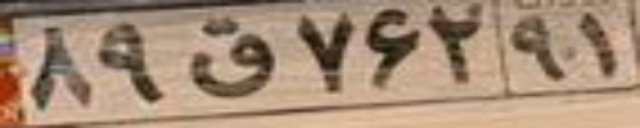1: (574, 11, 618, 78)
2: (429, 1, 488, 85)
6: (365, 8, 420, 88)
7: (296, 10, 354, 93)
8: (29, 26, 92, 110)
9: (95, 22, 166, 103), (510, 13, 562, 80)
ghaf: (186, 17, 276, 96)
